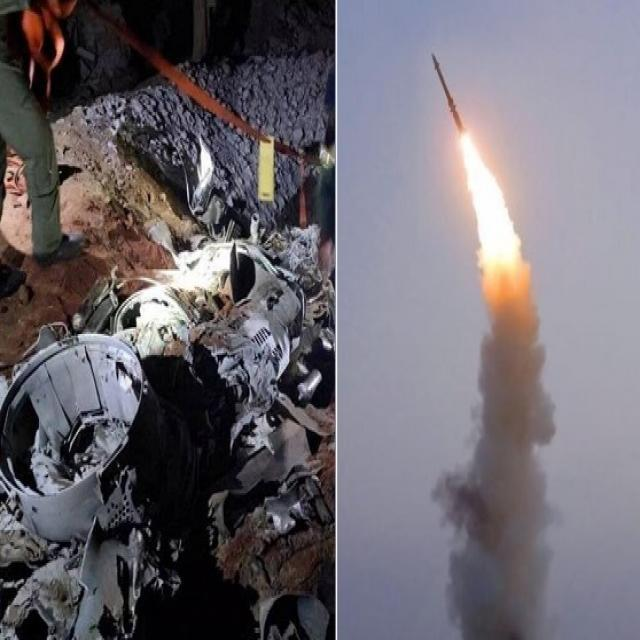missile: (428, 47, 469, 140)
